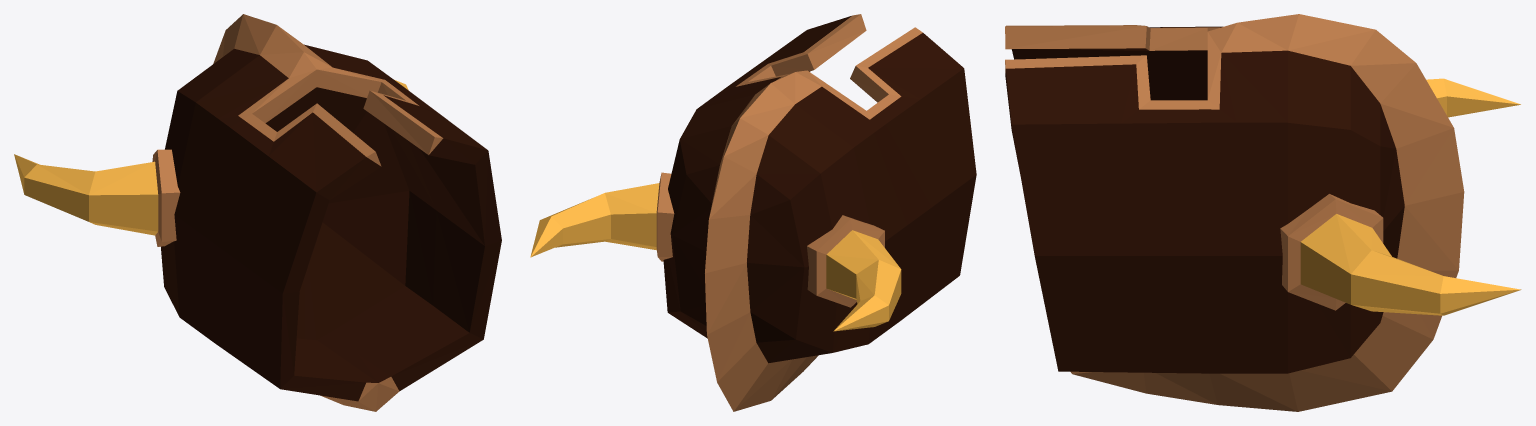
The model's file is Helmet 07.FBX.
3 views of the same model, side by side, from view 1: azimuth 30°, elevation 25°; view 2: azimuth 150°, elevation 25°; view 3: azimuth 270°, elevation 25° (orthographic). The views are drawn at different scales.
Visible parts, largest first — view 1: Helmet 07; view 2: Helmet 07; view 3: Helmet 07.
Boxes of the visible parts, x1=… form: Helmet 07: x1=14, y1=14, x2=501, y2=411; Helmet 07: x1=530, y1=14, x2=976, y2=411; Helmet 07: x1=1005, y1=14, x2=1521, y2=411.
Bounding box in the file's own units: 52.54 × 45.72 × 53.8.
